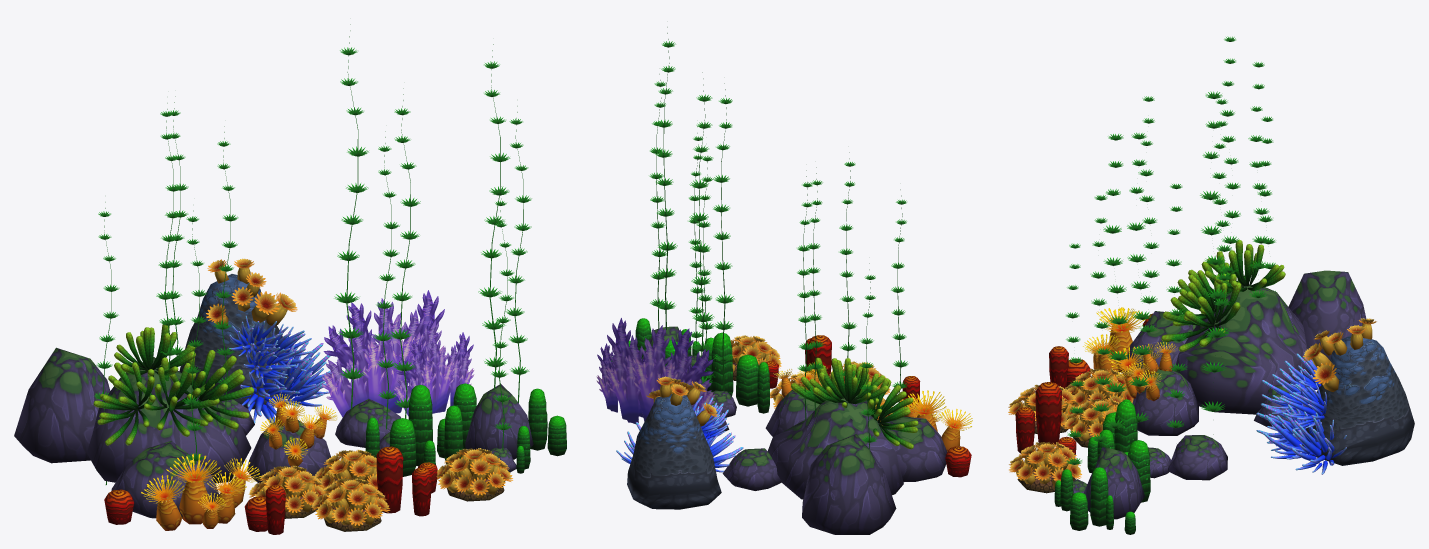
The model's file is CoralSet_17.FBX.
3 renders of one model, left to right at view 1: azimuth 30°, elevation 25°; view 2: azimuth 150°, elevation 25°; view 3: azimuth 270°, elevation 25°, orthographic. The views are drawn at different scales.
Visible parts, largest first — view 1: CoralSet_17, Plane009, Line033, Box008, Plane022, Line181, Line182, Line108, Line121, Line053, Line107, Line069 (+27 smaller); view 2: CoralSet_17, Box008, Plane009, Line033, Line053, Line121, Plane211, Plane214, Plane213, Line182, Plane022, Plane215 (+13 smaller); view 3: CoralSet_17, Box008, Line033, Line108, Line182, Line053, Line069, Sphere054, Line196, Plane211, Line180, Line200 (+20 smaller).
Part boxes in pixels (x1=…): CoralSet_17: x1=14, y1=347, x2=566, y2=518; Plane009: x1=322, y1=290, x2=445, y2=417; Line033: x1=365, y1=383, x2=476, y2=476; Box008: x1=179, y1=274, x2=296, y2=409; Plane022: x1=394, y1=332, x2=474, y2=416; Line181: x1=311, y1=478, x2=390, y2=528; Line182: x1=436, y1=448, x2=512, y2=497; Line108: x1=169, y1=345, x2=254, y2=429; Line121: x1=93, y1=362, x2=155, y2=445; Line053: x1=114, y1=324, x2=196, y2=376; Line107: x1=136, y1=357, x2=219, y2=436; Line069: x1=248, y1=465, x2=324, y2=515; CoralSet_17: x1=611, y1=318, x2=947, y2=534; Box008: x1=627, y1=394, x2=721, y2=509; Plane009: x1=606, y1=318, x2=714, y2=424; Line033: x1=665, y1=332, x2=769, y2=413; Line053: x1=809, y1=358, x2=888, y2=408; Line121: x1=868, y1=378, x2=918, y2=449; Plane211: x1=689, y1=72, x2=714, y2=383; Plane214: x1=655, y1=27, x2=677, y2=329; Plane213: x1=713, y1=83, x2=734, y2=391; Line182: x1=730, y1=335, x2=781, y2=371; Plane022: x1=596, y1=343, x2=645, y2=417; Plane215: x1=649, y1=74, x2=666, y2=328; CoralSet_17: x1=1054, y1=270, x2=1366, y2=534; Box008: x1=1302, y1=335, x2=1414, y2=465; Line033: x1=1087, y1=399, x2=1150, y2=502; Line108: x1=1161, y1=280, x2=1241, y2=351; Line182: x1=1009, y1=442, x2=1081, y2=487; Line053: x1=1204, y1=239, x2=1285, y2=291; Line069: x1=1064, y1=368, x2=1133, y2=406; Sphere054: x1=1035, y1=382, x2=1061, y2=444; Line196: x1=1291, y1=412, x2=1346, y2=474; Plane211: x1=1200, y1=91, x2=1228, y2=434; Line180: x1=1063, y1=398, x2=1119, y2=441; Line200: x1=1279, y1=380, x2=1327, y2=429.
Size of the model in its own units: 470 by 461 by 406.
